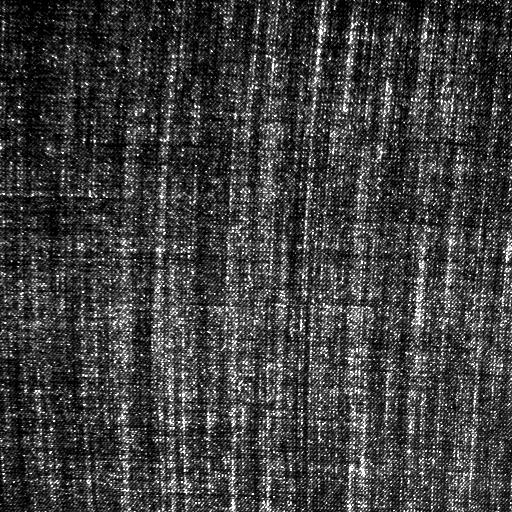fabric_perfect: (0, 5, 508, 511)
